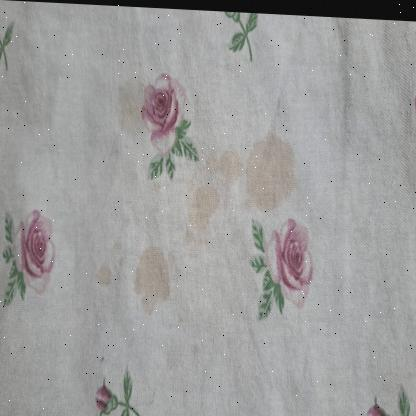spot: (238, 117, 300, 234), (178, 174, 228, 248), (130, 238, 170, 322), (114, 70, 151, 143), (199, 136, 253, 183), (94, 235, 126, 300)
